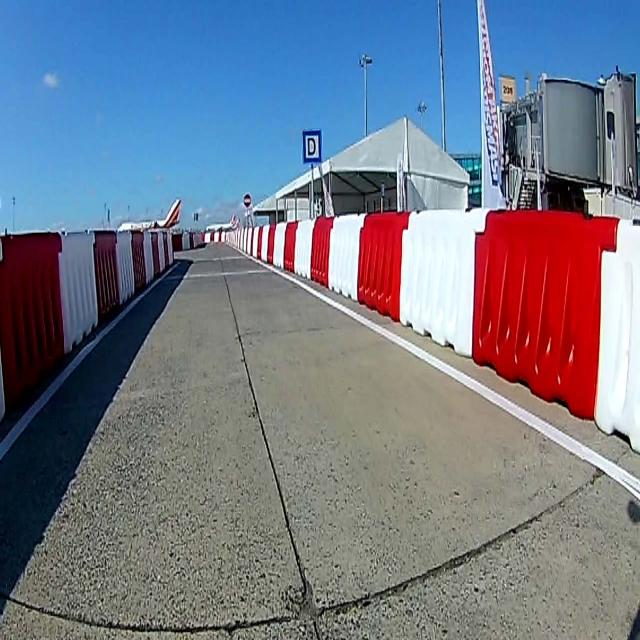durak: (303, 129, 323, 164)
girisyok: (243, 193, 251, 208)
